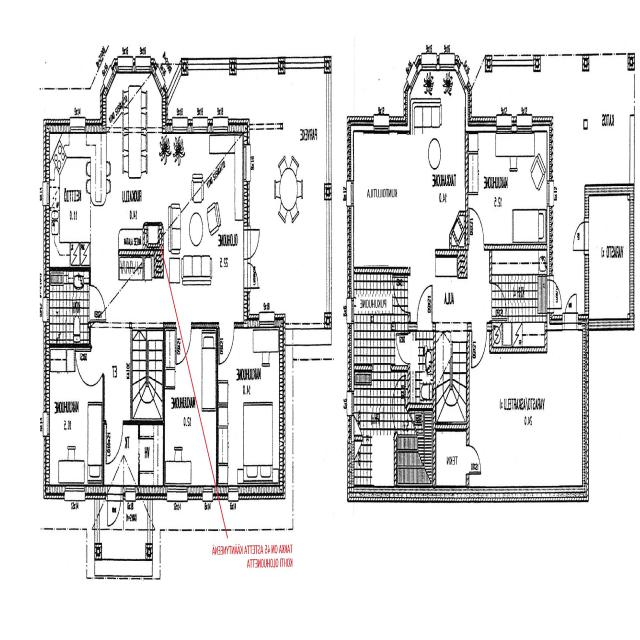door: (80, 347, 103, 402), (387, 384, 408, 435), (106, 420, 123, 466), (471, 322, 487, 369), (417, 285, 433, 330), (490, 283, 508, 321), (107, 484, 121, 532), (392, 275, 410, 312), (469, 206, 484, 250), (219, 322, 234, 366), (176, 322, 191, 366), (564, 285, 577, 330), (89, 286, 105, 321), (244, 259, 262, 289), (244, 230, 262, 259), (547, 280, 565, 308), (572, 222, 589, 250), (466, 445, 482, 474), (396, 333, 410, 364)
